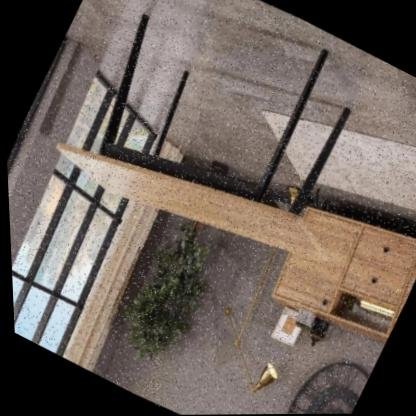Table: (11, 0, 416, 334)
